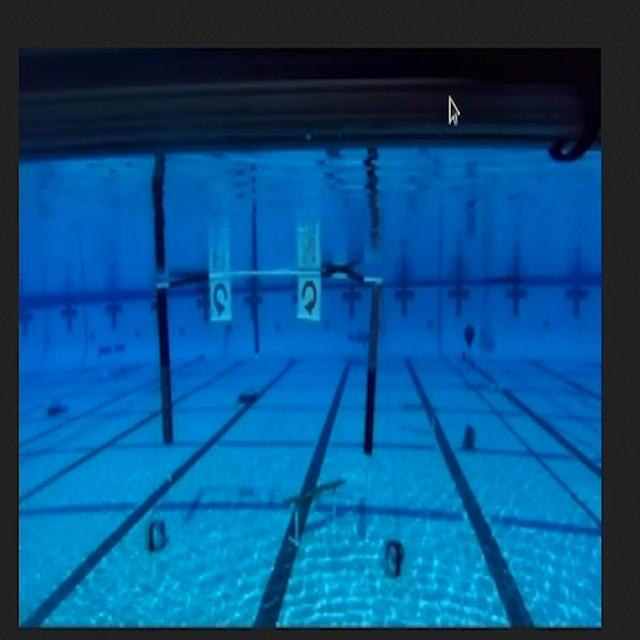Gate: (157, 272, 385, 463)
